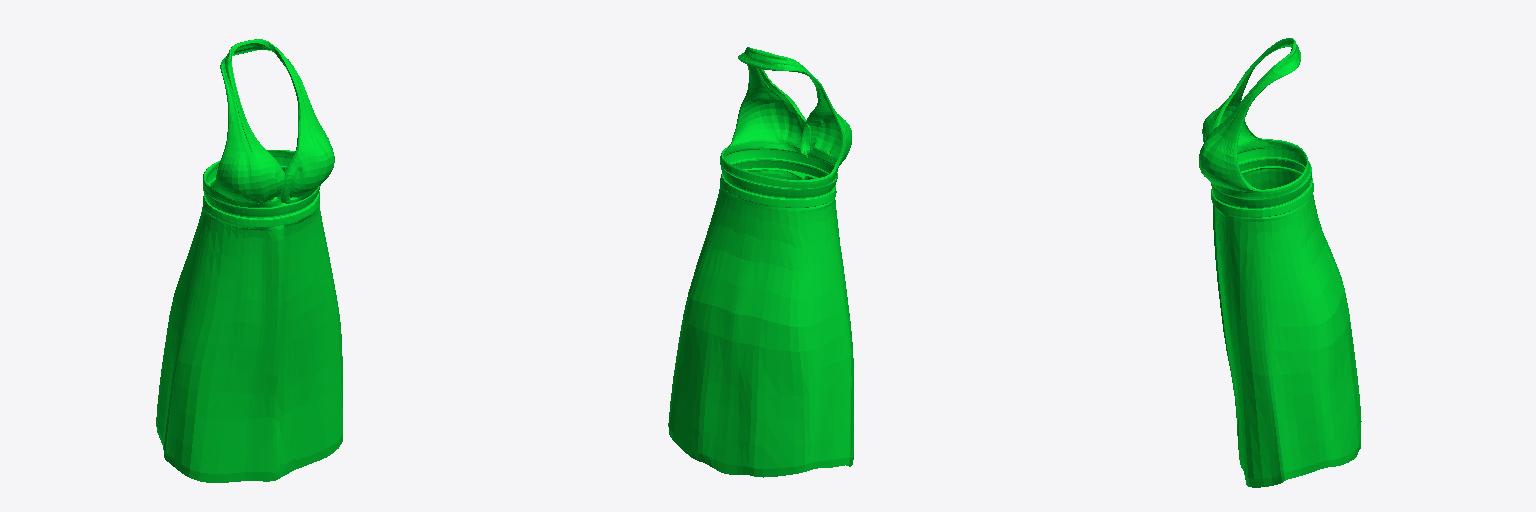
Rendered from changqun4.obj.
3 renders of one model, left to right at view 1: azimuth 30°, elevation 25°; view 2: azimuth 150°, elevation 25°; view 3: azimuth 270°, elevation 25°, orthographic.
Visible parts, largest first — view 1: changqun; view 2: changqun; view 3: changqun.
Part boxes in pixels (x1,y1,x2,y2): changqun: (156, 39, 342, 482); changqun: (668, 47, 853, 477); changqun: (1199, 38, 1361, 487).
Bounding box in the file's own units: 2.76 × 6.4 × 2.24.